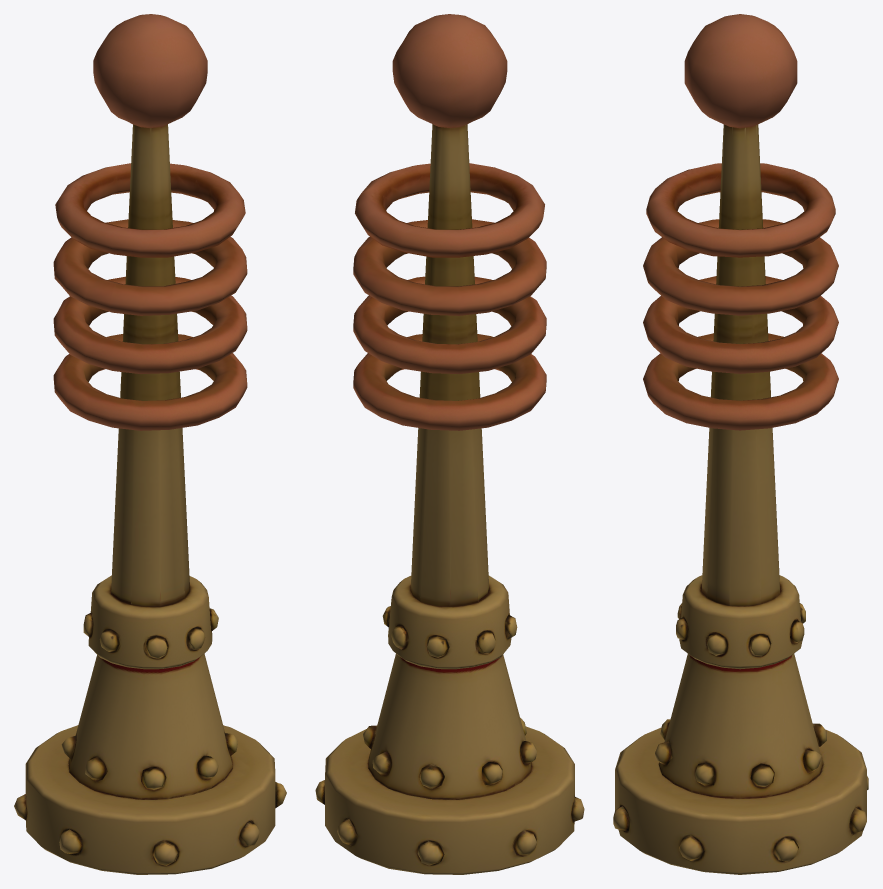
File: addon_rod_tripo.glb
3 renders of one model, left to right at view 1: azimuth 30°, elevation 25°; view 2: azimuth 150°, elevation 25°; view 3: azimuth 270°, elevation 25°, orthographic.
Parts seen in each view (by area): view 1: tripo_node_cbd8c27f-f963-4eb8-ad1b-f2bc1ddc94c4; view 2: tripo_node_cbd8c27f-f963-4eb8-ad1b-f2bc1ddc94c4; view 3: tripo_node_cbd8c27f-f963-4eb8-ad1b-f2bc1ddc94c4.
Boxes of the visible parts, box(x1,y1,x2,y2) form: tripo_node_cbd8c27f-f963-4eb8-ad1b-f2bc1ddc94c4: box(14, 14, 286, 874); tripo_node_cbd8c27f-f963-4eb8-ad1b-f2bc1ddc94c4: box(315, 14, 584, 874); tripo_node_cbd8c27f-f963-4eb8-ad1b-f2bc1ddc94c4: box(613, 14, 868, 874).
Size of the model in its own units: 0.2871 by 0.998 by 0.2871.
Materials: 1 (1 with a texture image).
